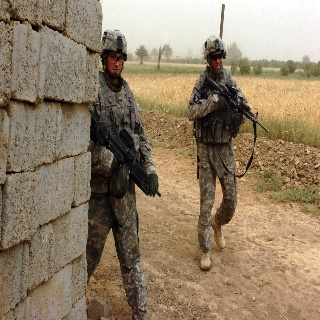rifle: (89, 110, 162, 199), (204, 76, 272, 135)
